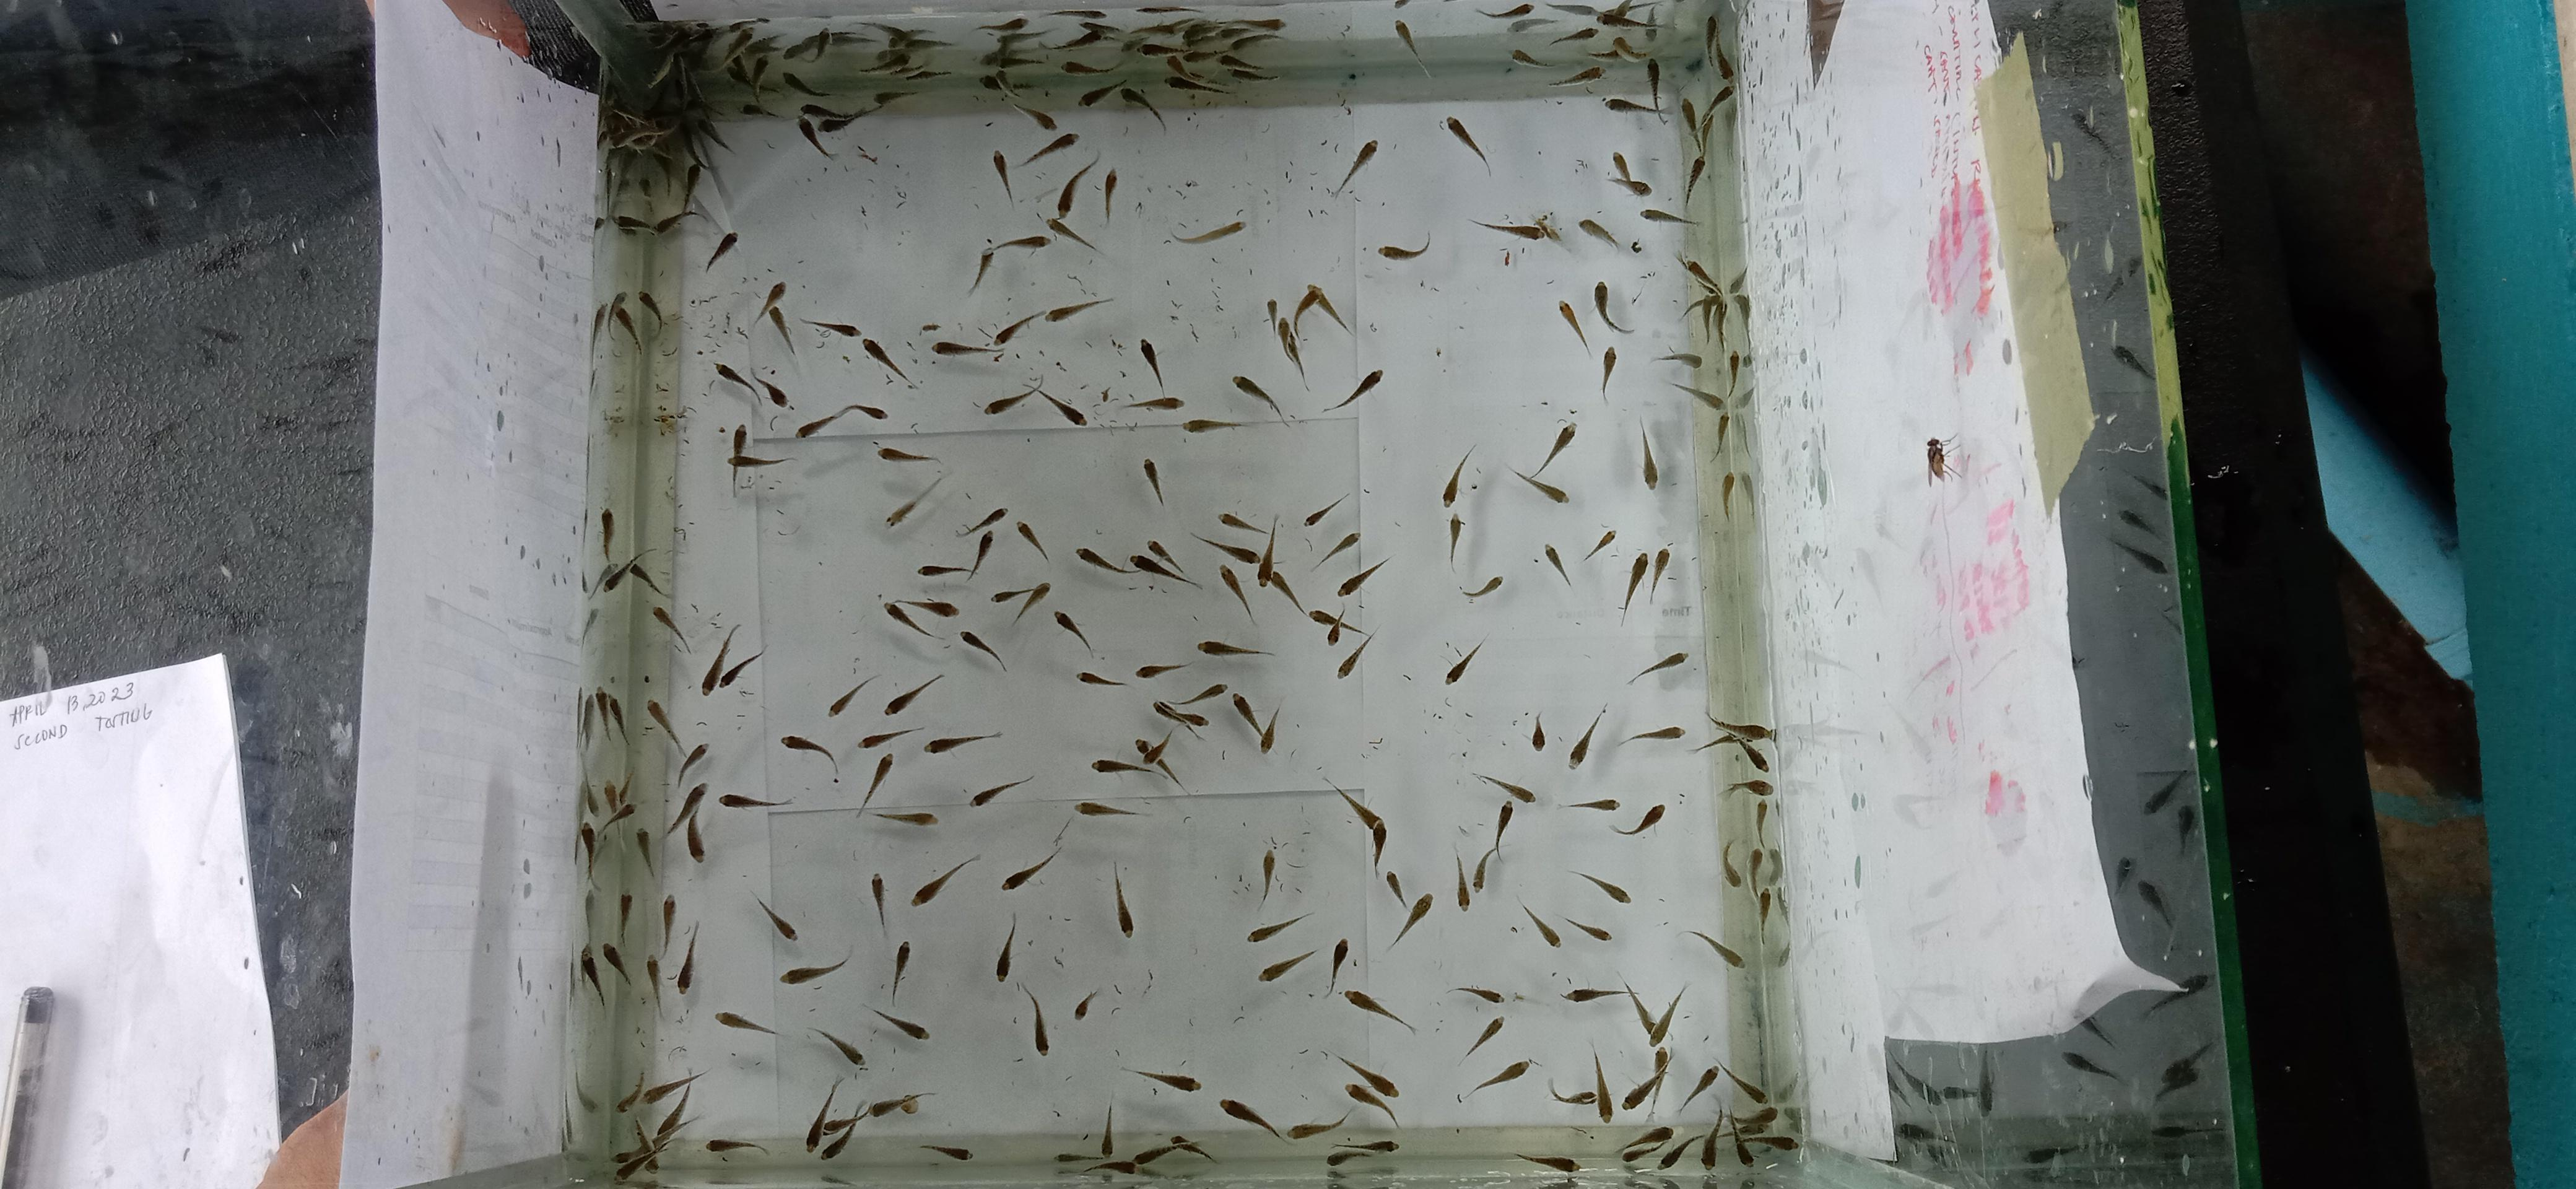fingerling: (1266, 282, 1354, 393), (1044, 155, 1110, 256), (1683, 85, 1735, 204), (992, 295, 1114, 346), (1321, 777, 1387, 868), (870, 941, 929, 1041), (578, 776, 636, 875), (1508, 422, 1577, 504), (645, 697, 709, 780), (588, 289, 664, 359), (1000, 817, 1071, 891), (859, 24, 951, 81), (1549, 1045, 1614, 1123), (1077, 79, 1168, 133), (983, 381, 1087, 427), (1657, 1104, 1726, 1170), (811, 90, 911, 135), (980, 72, 1056, 131), (1256, 516, 1303, 612), (1054, 1143, 1175, 1177), (1623, 982, 1687, 1045), (1619, 546, 1672, 622), (616, 1069, 707, 1113), (1266, 298, 1308, 391), (917, 531, 994, 581), (653, 159, 704, 232), (1181, 18, 1284, 54), (1472, 802, 1514, 890), (910, 855, 980, 907), (1054, 1105, 1115, 1165), (1131, 338, 1183, 409), (958, 506, 1007, 579), (1328, 1052, 1399, 1099), (1723, 778, 1773, 845), (884, 473, 946, 527), (1255, 836, 1301, 907), (577, 687, 627, 751), (796, 404, 887, 440), (1621, 1047, 1671, 1110), (1131, 1134, 1215, 1172), (1342, 989, 1416, 1032), (1692, 732, 1770, 772), (1294, 284, 1352, 335), (577, 817, 629, 876), (1231, 692, 1281, 753), (1442, 115, 1491, 176), (1134, 729, 1184, 788), (781, 734, 840, 783), (598, 550, 661, 596), (1730, 1105, 1778, 1164), (1386, 892, 1433, 952), (1091, 757, 1180, 789), (991, 580, 1051, 627), (1331, 138, 1378, 197), (804, 1078, 841, 1152), (1219, 1097, 1283, 1140), (819, 1102, 867, 1159), (701, 625, 739, 695), (884, 672, 943, 716), (728, 424, 787, 468), (1060, 44, 1136, 78), (1344, 1081, 1399, 1128), (1469, 1058, 1536, 1096), (1325, 368, 1383, 412), (1164, 55, 1228, 95), (861, 337, 912, 386), (1056, 156, 1098, 216), (780, 950, 850, 985), (1567, 700, 1606, 764), (1232, 374, 1286, 419), (809, 1026, 865, 1068), (664, 782, 708, 836), (1757, 889, 1789, 964), (826, 674, 880, 718), (1508, 466, 1569, 505), (1395, 19, 1434, 79), (1147, 539, 1198, 583), (1697, 84, 1734, 146), (1119, 85, 1167, 133), (1217, 565, 1255, 625), (983, 379, 1043, 417), (1593, 281, 1634, 335), (590, 508, 616, 594), (1021, 981, 1050, 1056), (857, 753, 894, 813), (1707, 712, 1776, 744), (752, 892, 796, 941), (1681, 294, 1726, 342), (969, 775, 1035, 808), (587, 296, 611, 388), (1336, 557, 1390, 598), (1046, 216, 1100, 255), (1246, 912, 1313, 944), (645, 697, 683, 753), (1704, 17, 1736, 83), (1571, 869, 1631, 905), (1689, 930, 1744, 968), (1309, 608, 1365, 645), (1442, 443, 1475, 506), (1191, 533, 1259, 564), (883, 600, 936, 640), (577, 779, 601, 863), (1258, 947, 1316, 983), (1022, 131, 1079, 167), (597, 777, 635, 830), (714, 362, 762, 405), (1152, 698, 1209, 734), (1169, 218, 1246, 245), (1536, 422, 1576, 473), (1717, 1063, 1768, 1104), (1326, 1140, 1398, 1168), (871, 1006, 929, 1041), (1619, 1125, 1673, 1162), (1620, 551, 1650, 618), (1677, 1065, 1718, 1113), (978, 38, 1046, 68), (1630, 650, 1687, 684), (1607, 152, 1651, 196), (1035, 387, 1086, 426), (767, 302, 801, 359), (607, 298, 643, 352), (1677, 252, 1721, 296), (651, 605, 690, 655), (960, 630, 1005, 673), (1262, 567, 1304, 613), (1444, 637, 1485, 684), (1474, 772, 1535, 803), (1045, 297, 1114, 324), (1520, 902, 1560, 947), (1054, 608, 1093, 655), (1590, 1047, 1614, 1123), (1126, 26, 1188, 55), (924, 732, 1003, 755), (719, 649, 762, 690), (684, 788, 709, 860), (1129, 1068, 1200, 1093), (869, 1091, 934, 1118), (1471, 217, 1547, 240), (1558, 300, 1590, 355), (1336, 632, 1373, 678), (1222, 25, 1282, 53), (1699, 1103, 1725, 1169), (1316, 530, 1359, 570), (1612, 803, 1665, 835), (1464, 1016, 1503, 1058), (1255, 517, 1279, 586), (796, 112, 832, 158), (675, 923, 698, 993), (579, 946, 606, 1008), (1671, 382, 1727, 411), (1075, 545, 1128, 575), (810, 104, 863, 134), (714, 1011, 776, 1037), (612, 1148, 658, 1183), (751, 368, 791, 408), (992, 311, 1040, 344), (1598, 2, 1659, 28), (1749, 846, 1782, 892), (1603, 96, 1668, 120), (598, 690, 627, 744), (1657, 1136, 1700, 1170), (1289, 1115, 1346, 1141), (1721, 837, 1750, 889), (956, 507, 1006, 536), (1325, 938, 1349, 997), (931, 339, 1005, 359), (1049, 25, 1104, 51), (871, 22, 921, 51), (1197, 640, 1275, 658), (1113, 868, 1134, 937), (784, 30, 830, 62), (994, 913, 1016, 982), (858, 726, 920, 749), (967, 529, 994, 580), (1133, 729, 1173, 765), (600, 943, 632, 986), (755, 280, 787, 324), (598, 555, 635, 593), (1218, 55, 1272, 81), (1731, 1105, 1778, 1135), (1129, 1143, 1177, 1173), (1255, 842, 1277, 907), (1515, 1152, 1579, 1174), (1016, 520, 1048, 562), (1548, 1078, 1596, 1107), (1077, 80, 1125, 108), (1130, 552, 1175, 583), (705, 231, 738, 272), (1139, 338, 1164, 391), (1169, 1134, 1215, 1163), (1010, 102, 1056, 131), (1640, 420, 1659, 489), (1578, 217, 1621, 249), (1379, 234, 1430, 260), (992, 580, 1050, 603), (637, 290, 664, 339), (1648, 546, 1671, 601), (864, 49, 915, 74), (799, 317, 859, 339), (968, 245, 995, 293), (991, 149, 1014, 205), (1303, 495, 1344, 527), (1728, 292, 1752, 344), (876, 445, 939, 464), (1543, 543, 1571, 588), (1725, 264, 1750, 315), (615, 1072, 645, 1113), (890, 941, 911, 1001), (707, 1138, 768, 1158), (1060, 56, 1121, 76), (1563, 915, 1611, 941), (1177, 682, 1228, 706), (634, 827, 658, 879), (719, 792, 791, 809), (677, 741, 708, 780), (627, 564, 664, 596), (1217, 510, 1268, 534), (645, 954, 663, 1018), (1621, 725, 1684, 744), (869, 873, 887, 936), (782, 69, 822, 98), (1549, 66, 1603, 87), (1610, 35, 1652, 63), (1091, 758, 1152, 777), (1562, 986, 1627, 1003), (1076, 800, 1139, 818), (1640, 207, 1699, 227), (1471, 847, 1497, 891), (1259, 703, 1281, 752), (581, 888, 602, 940), (1739, 738, 1770, 773), (1684, 154, 1707, 203), (872, 810, 937, 827), (1395, 17, 1421, 59), (1142, 457, 1164, 505), (1584, 528, 1616, 562), (1646, 60, 1666, 114), (577, 822, 598, 874), (909, 596, 958, 618), (1081, 1158, 1136, 1177), (1732, 1126, 1758, 1166), (1494, 803, 1515, 853), (600, 800, 635, 829), (1121, 395, 1182, 412), (1451, 985, 1502, 1005), (591, 296, 612, 346), (1055, 1152, 1108, 1172), (1460, 575, 1503, 598), (1184, 417, 1247, 433), (992, 234, 1050, 251), (980, 71, 1017, 98), (920, 1143, 972, 1162), (1097, 1104, 1115, 1159), (1476, 1, 1533, 18), (1723, 779, 1773, 798), (1511, 991, 1562, 1010), (1549, 27, 1598, 47), (1453, 850, 1469, 910), (1102, 167, 1118, 224), (1681, 98, 1701, 144), (1654, 349, 1702, 369), (977, 17, 1027, 35), (575, 687, 590, 749), (1154, 757, 1184, 788), (1708, 297, 1727, 344), (598, 507, 615, 561), (1081, 17, 1123, 38), (579, 779, 601, 821), (1134, 663, 1190, 679), (1534, 210, 1562, 242), (661, 894, 677, 950), (686, 817, 706, 862), (1384, 869, 1407, 908), (1711, 412, 1731, 456), (1601, 346, 1617, 400), (1692, 734, 1736, 754), (1370, 817, 1387, 868), (1447, 515, 1463, 567), (1510, 15, 1552, 35), (729, 453, 786, 468), (1719, 472, 1736, 520), (1077, 669, 1126, 686), (1754, 798, 1770, 847), (1073, 988, 1098, 1020), (617, 892, 633, 942), (729, 424, 749, 464), (1510, 47, 1547, 68), (1137, 2, 1199, 14), (902, 1092, 935, 1115), (1564, 797, 1619, 811), (1105, 980, 1126, 1017), (918, 564, 970, 578), (1141, 41, 1183, 58), (1756, 888, 1773, 929), (818, 1173, 865, 1188), (1754, 1135, 1797, 1151), (1530, 712, 1547, 751), (1052, 7, 1107, 19), (1586, 44, 1624, 62), (1309, 608, 1342, 627), (991, 585, 1025, 603), (855, 145, 880, 165)
